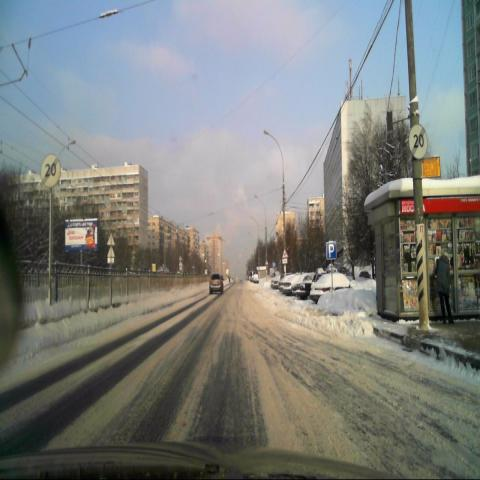3_25: (40, 151, 62, 190), (408, 123, 428, 160)
